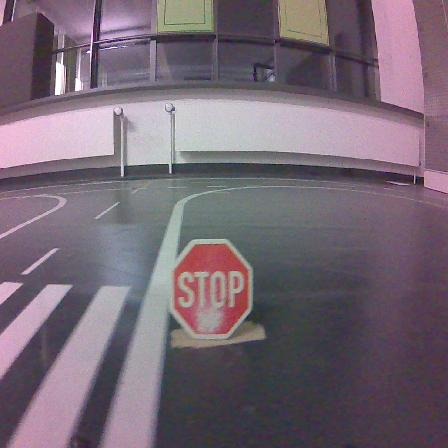STOP: (170, 239, 252, 338)
